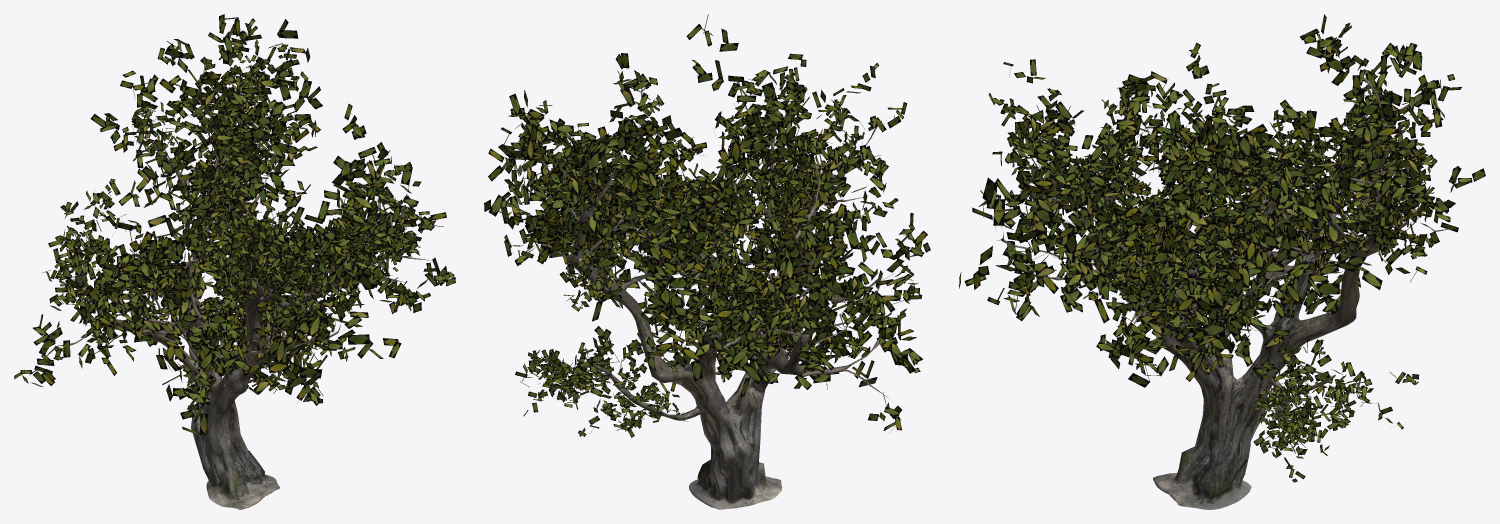
3 views of the same model, side by side, from view 1: azimuth 30°, elevation 25°; view 2: azimuth 150°, elevation 25°; view 3: azimuth 270°, elevation 25° (orthographic). The views are drawn at different scales.
Visible parts, largest first — view 1: island_tree_01_LOD0; view 2: island_tree_01_LOD0; view 3: island_tree_01_LOD0.
Boxes of the visible parts, left/top/right/bottom form: island_tree_01_LOD0: left=14, top=14, right=455, bottom=509; island_tree_01_LOD0: left=484, top=14, right=930, bottom=509; island_tree_01_LOD0: left=959, top=14, right=1485, bottom=509.
Size of the model in its own units: 4.75 by 5.09 by 4.82.
Materials: 3 (3 with a texture image).
